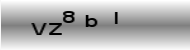8: (62, 9, 76, 25)
V: (29, 20, 48, 37)
Z: (47, 22, 64, 36)
b: (84, 12, 98, 30)
l: (113, 11, 119, 26)
